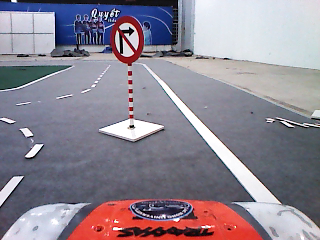ban: (111, 15, 144, 64)
